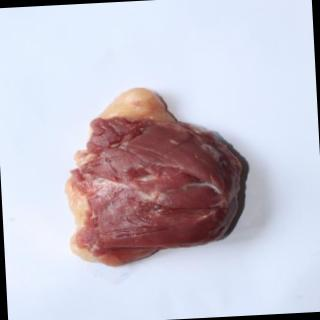Daging Sapi: (56, 84, 249, 269)
